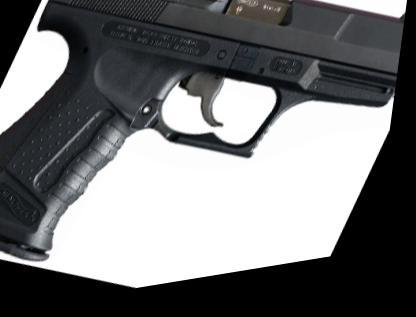pistol: (0, 0, 415, 315)
